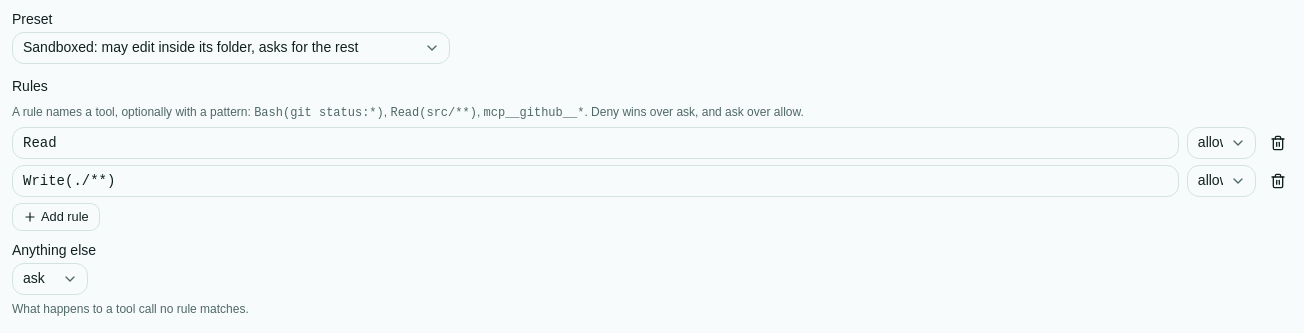
Test case: the policy editor › replaces the rules with a chosen preset's
Select "Read-only: may read, never writes or runs commands" in the dropdown labelled "Preset" at (231, 48), box [12,32,450,64]
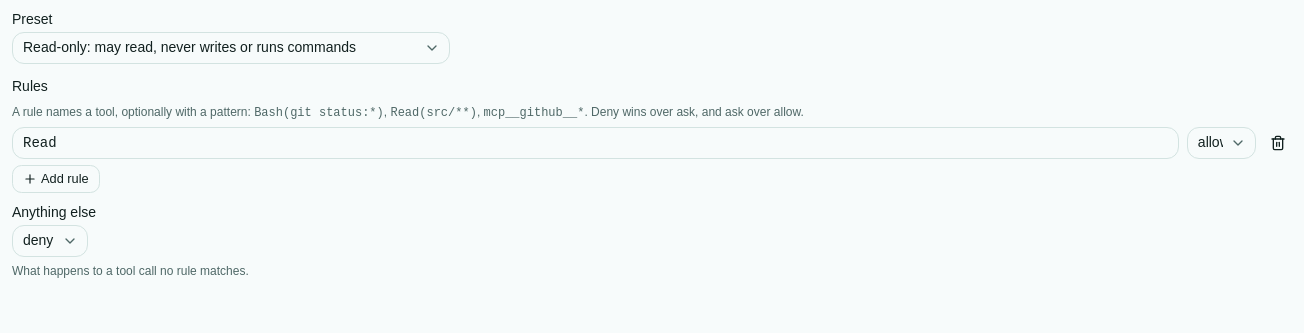
Now the dropdown labelled "Anything else" shows "deny", box [12,225,88,257]
